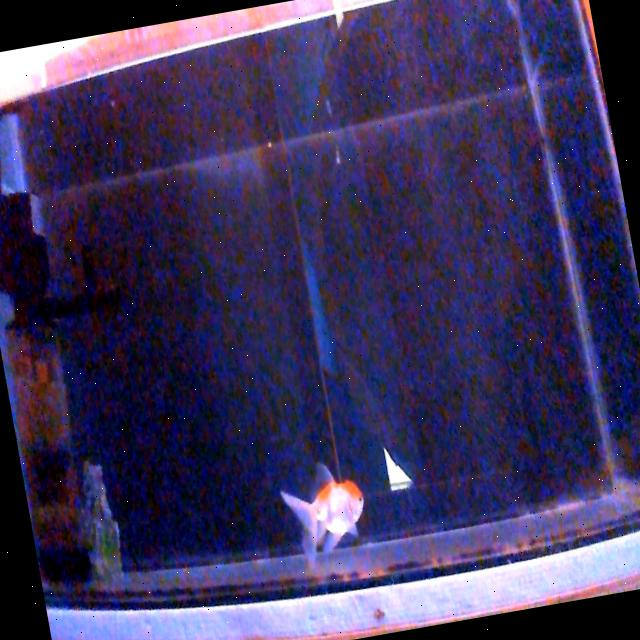fish: (276, 456, 374, 569)
